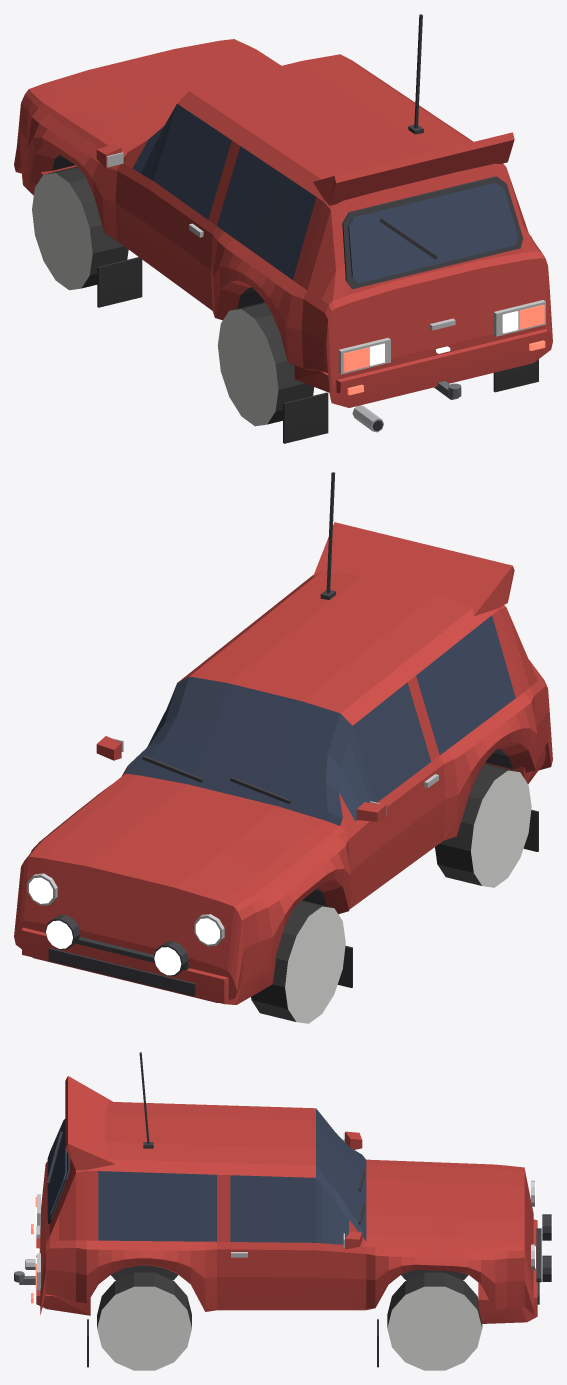
The model's file is niva.glb.
The picture shows the model from 3 angles, top to bottom: view 1: azimuth 30°, elevation 25°; view 2: azimuth 150°, elevation 25°; view 3: azimuth 270°, elevation 25°; orthographic projection. The views are drawn at different scales.
Visible parts, largest first — view 1: Body, Wheel_FL, Wheel_RL, Spoiler, MudFlaps, Bumper_R, Antenna, Mirror_L; view 2: Body, Spoiler, Wheel_RL, Wheel_FL, Bumper_F, AuxLamps, MudFlaps; view 3: Body, Wheel_RR, Wheel_FR, Spoiler, Bumper_F, AuxLamps, Bumper_R, Wheel_RL.
Boxes of the visible parts, x1,y1,x2,y2 form: Body: [14, 39, 552, 407]; Wheel_FL: [32, 166, 128, 290]; Wheel_RL: [217, 302, 314, 426]; Spoiler: [313, 132, 514, 205]; MudFlaps: [97, 257, 538, 443]; Bumper_R: [294, 329, 547, 392]; Antenna: [408, 14, 423, 134]; Mirror_L: [96, 144, 123, 168]; Body: [14, 571, 552, 1002]; Spoiler: [313, 522, 514, 616]; Wheel_RL: [435, 763, 531, 887]; Wheel_FL: [251, 900, 345, 1023]; Bumper_F: [22, 927, 275, 1004]; AuxLamps: [45, 915, 189, 976]; MudFlaps: [337, 809, 538, 987]; Body: [14, 1101, 535, 1314]; Wheel_RR: [97, 1272, 191, 1370]; Wheel_FR: [387, 1272, 482, 1370]; Spoiler: [65, 1076, 114, 1169]; Bumper_F: [478, 1219, 539, 1323]; AuxLamps: [536, 1214, 552, 1282]; Bumper_R: [36, 1238, 90, 1315]; Wheel_RL: [111, 1265, 177, 1280].
Size of the model in its own units: 1.92 by 2.4 by 4.09.
